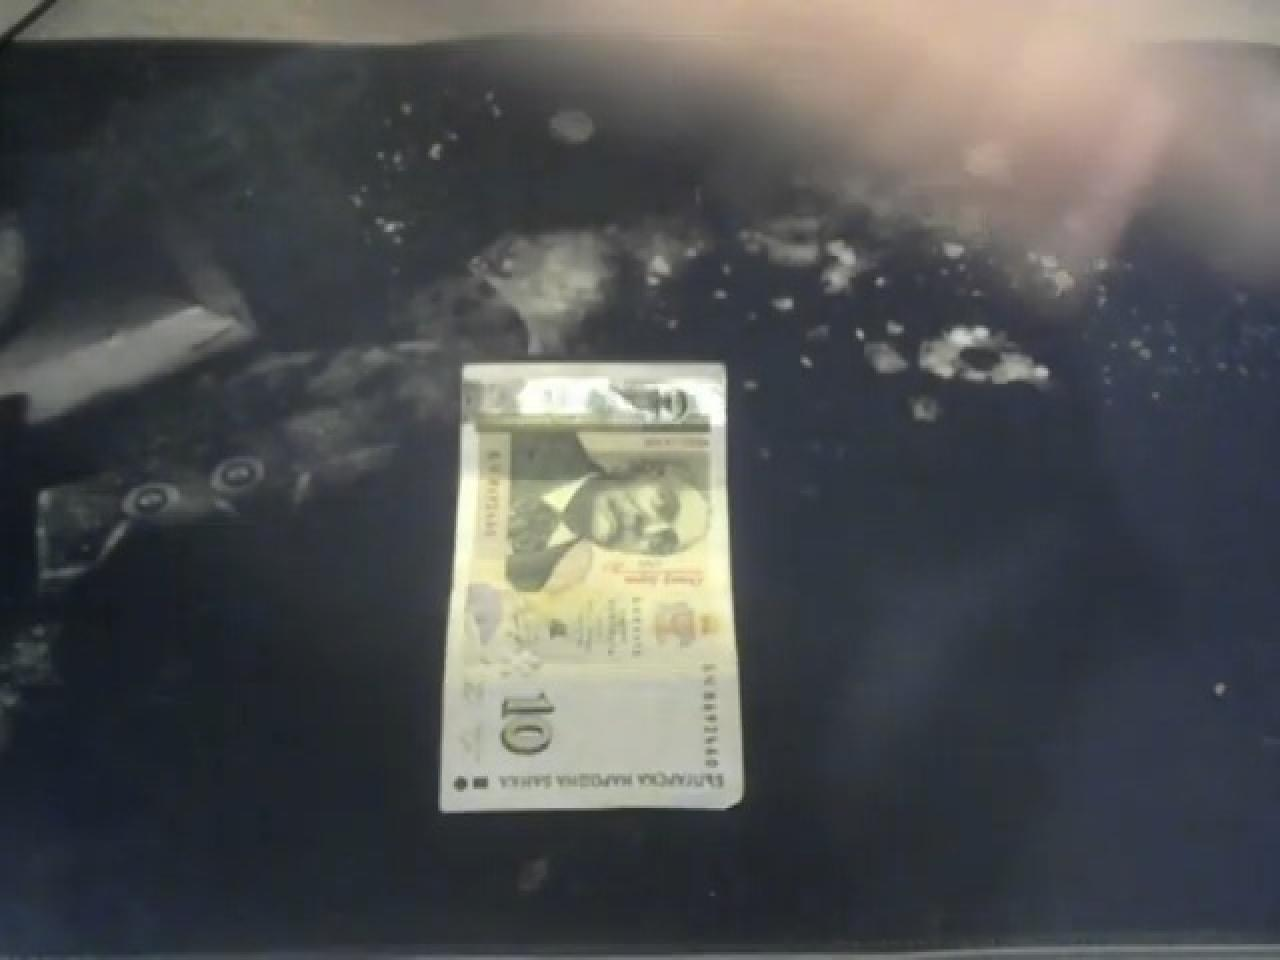10leva: (489, 410, 714, 611), (468, 667, 553, 769), (625, 357, 698, 435)
